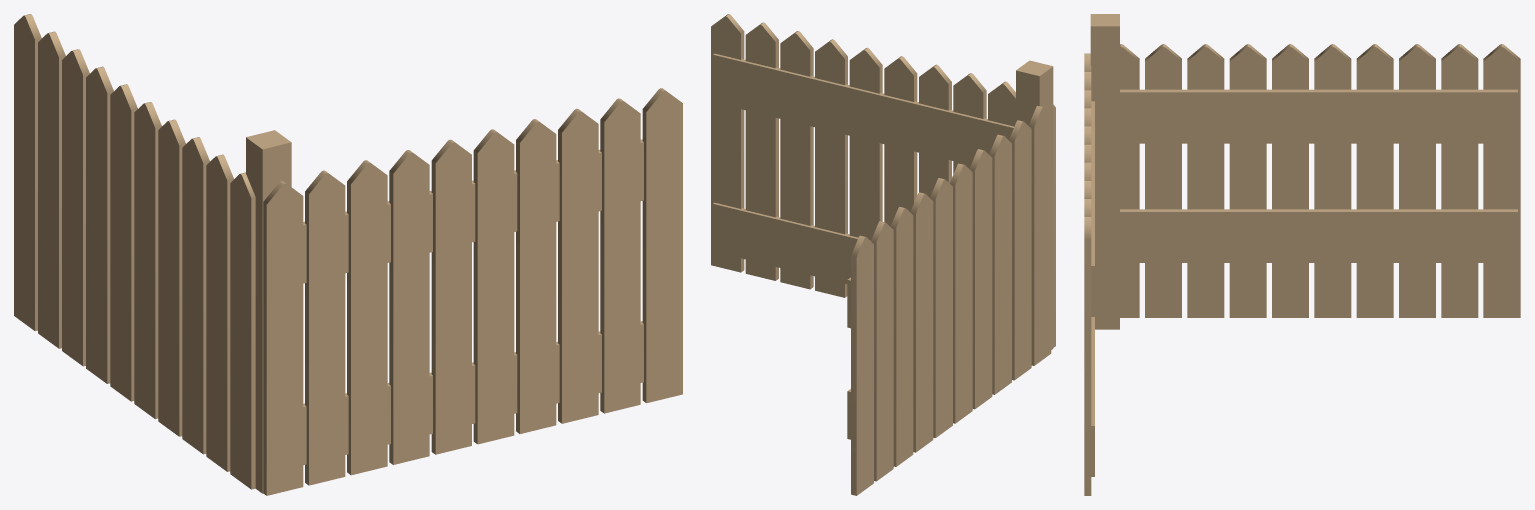
Rendered from Corner_Fence_attached_RAW.fbx.
3 views of the same model, side by side, from view 1: azimuth 30°, elevation 25°; view 2: azimuth 150°, elevation 25°; view 3: azimuth 270°, elevation 25° (orthographic). The views are drawn at different scales.
Parts seen in each view (by area): view 1: Corner_Fence; view 2: Corner_Fence; view 3: Corner_Fence.
Boxes of the visible parts, x1,y1,x2,y2 form: Corner_Fence: (14, 14, 682, 495); Corner_Fence: (711, 14, 1055, 495); Corner_Fence: (1084, 14, 1520, 495).
Size of the model in its own units: 76.83 by 60.01 by 78.24.
